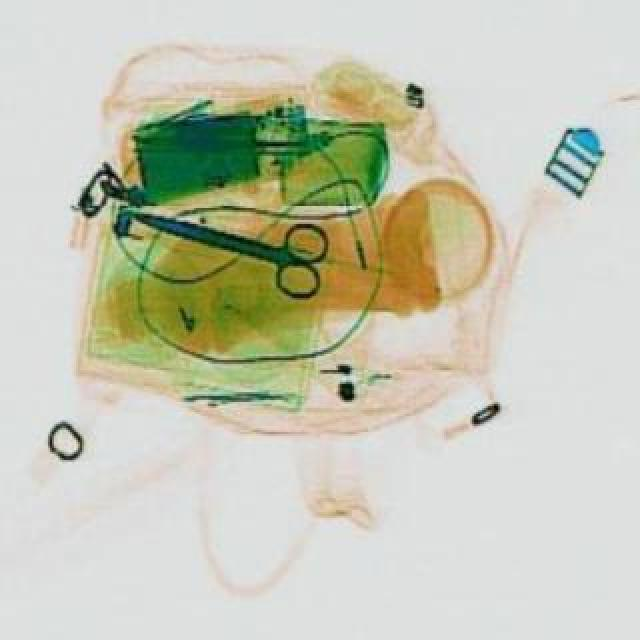pliers: (122, 174, 336, 298)
